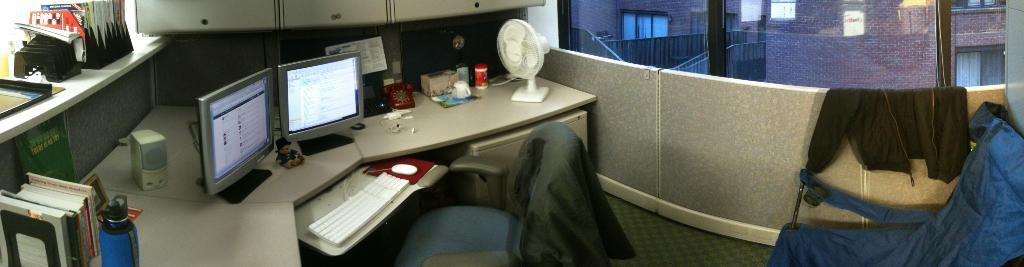Computer-monitor: (260, 46, 369, 166), (195, 62, 276, 202)
